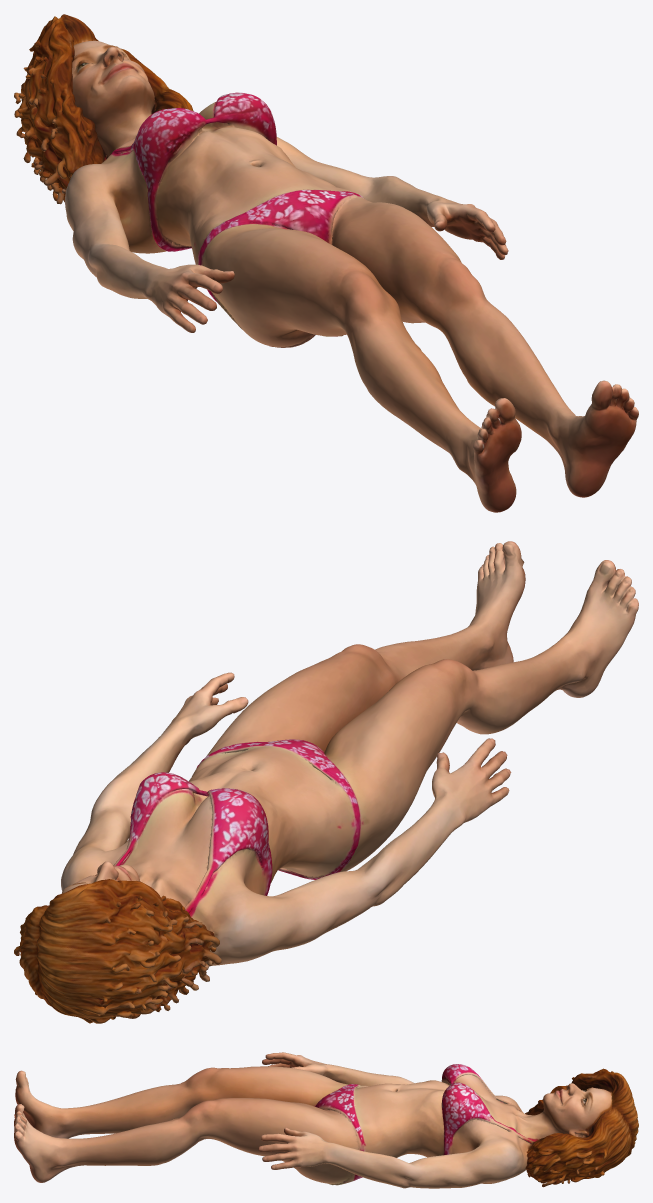
Rendered from kate-reclining-v387.glb.
The picture shows the model from 3 angles, top to bottom: view 1: azimuth 30°, elevation 25°; view 2: azimuth 150°, elevation 25°; view 3: azimuth 270°, elevation 25°; orthographic projection. The views are drawn at different scales.
Parts seen in each view (by area): view 1: Kate Â· relaxed reclining pose; view 2: Kate Â· relaxed reclining pose; view 3: Kate Â· relaxed reclining pose.
Part boxes in pixels (x1,y1,x2,y2): Kate Â· relaxed reclining pose: (14,14,638,512); Kate Â· relaxed reclining pose: (14,541,638,1023); Kate Â· relaxed reclining pose: (14,1052,638,1188).
Size of the model in its own units: 0.5843 by 0.2944 by 1.61.
Materials: 1 (1 with a texture image).
